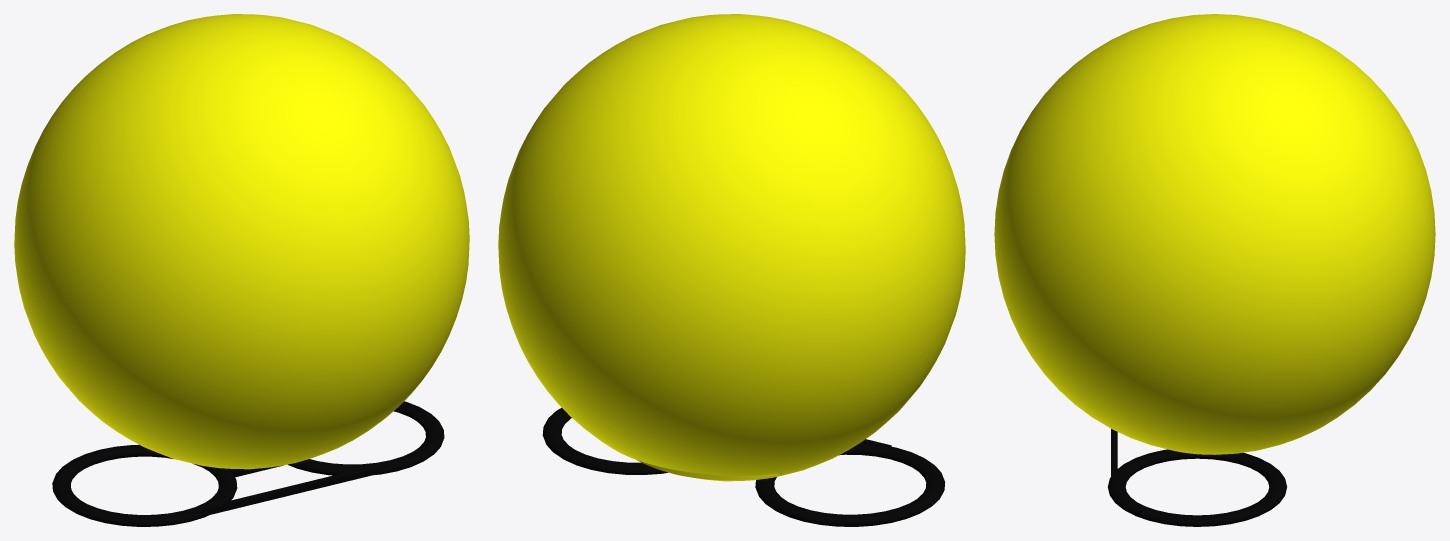
The model's file is glasses.fbx.
The picture shows the model from 3 angles, left to right: view 1: azimuth 30°, elevation 25°; view 2: azimuth 150°, elevation 25°; view 3: azimuth 270°, elevation 25°; orthographic projection. The views are drawn at different scales.
Visible parts, largest first — view 1: Object_1, COLOR=; view 2: Object_1, COLOR=; view 3: Object_1, COLOR=.
Boxes of the visible parts, x1,y1,x2,y2 form: Object_1: (14,14,469,469); COLOR=: (52,401,444,526); Object_1: (498,14,965,481); COLOR=: (542,407,945,526); Object_1: (994,14,1435,454); COLOR=: (1108,429,1286,526).
Size of the model in its own units: 39.43 by 40.36 by 39.43.
